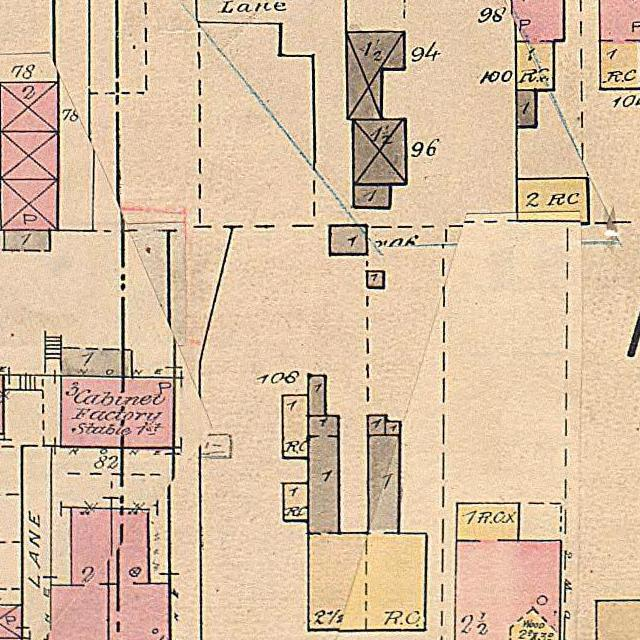building-footprints: (308, 416, 426, 631), (455, 503, 561, 640), (61, 375, 174, 448), (48, 508, 110, 640), (109, 509, 170, 640), (347, 31, 405, 120), (514, 0, 564, 90), (354, 119, 407, 184), (517, 178, 589, 221), (1, 83, 59, 132), (1, 179, 57, 229), (0, 131, 58, 179), (61, 348, 132, 376), (282, 395, 308, 458), (329, 226, 368, 254), (4, 230, 50, 251), (284, 483, 308, 521), (354, 185, 390, 208), (308, 375, 326, 416), (0, 605, 22, 638), (516, 90, 536, 126), (368, 415, 385, 435), (367, 271, 383, 288), (385, 421, 401, 435)
